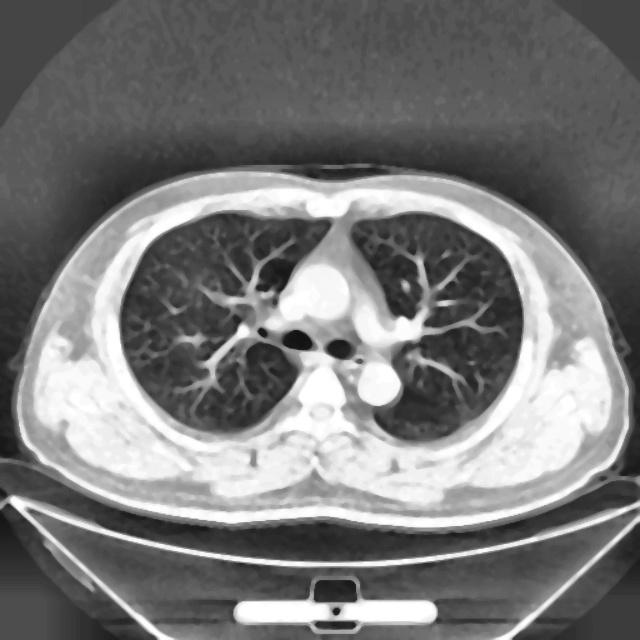covid: (11, 162, 633, 534)
